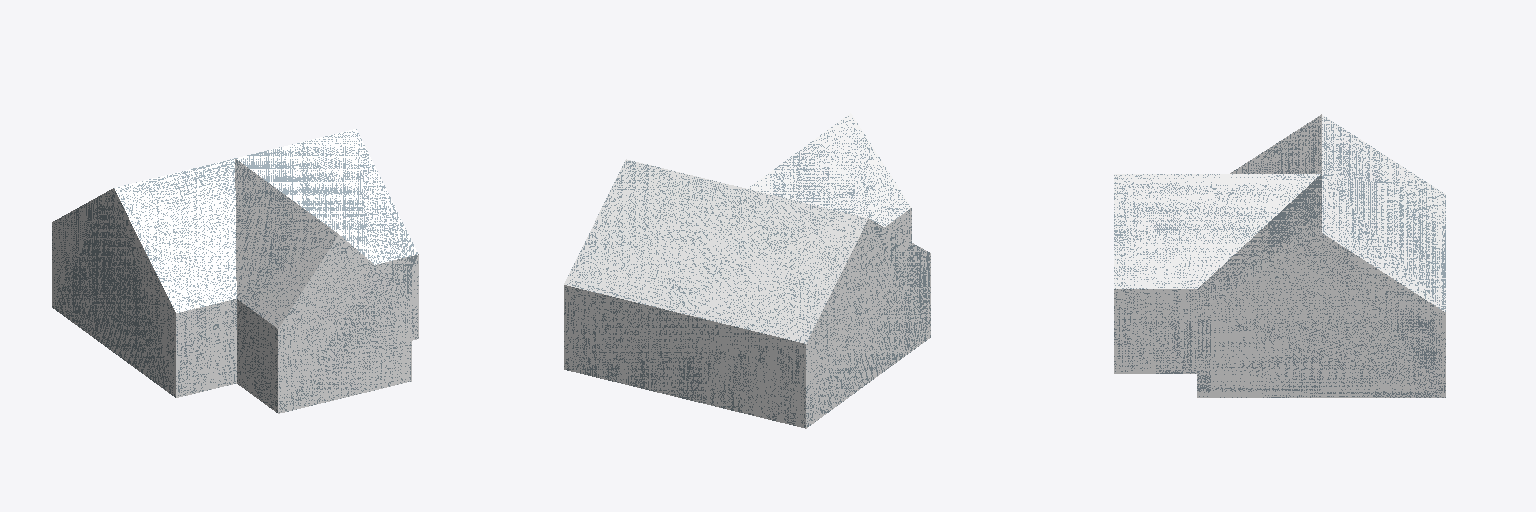
The model's file is haus03.obj.
3 renders of one model, left to right at view 1: azimuth 30°, elevation 25°; view 2: azimuth 150°, elevation 25°; view 3: azimuth 270°, elevation 25°, orthographic.
Parts seen in each view (by area): view 1: SketchUp_ID2.003; view 2: SketchUp_ID2.003; view 3: SketchUp_ID2.003.
Part boxes in pixels (x1,y1,x2,y2): SketchUp_ID2.003: (52,129,418,413); SketchUp_ID2.003: (564,113,930,428); SketchUp_ID2.003: (1114,114,1445,397).
Size of the model in its own units: 9.01 by 5.85 by 10.68.